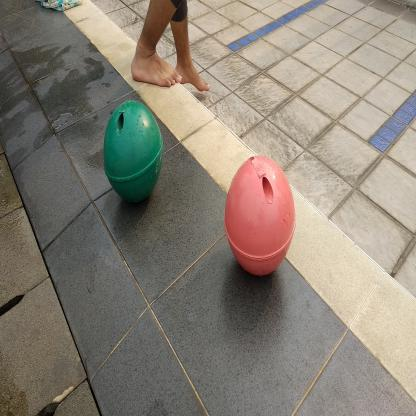green_buoy: (102, 97, 166, 216)
red_buoy: (223, 150, 298, 284)
